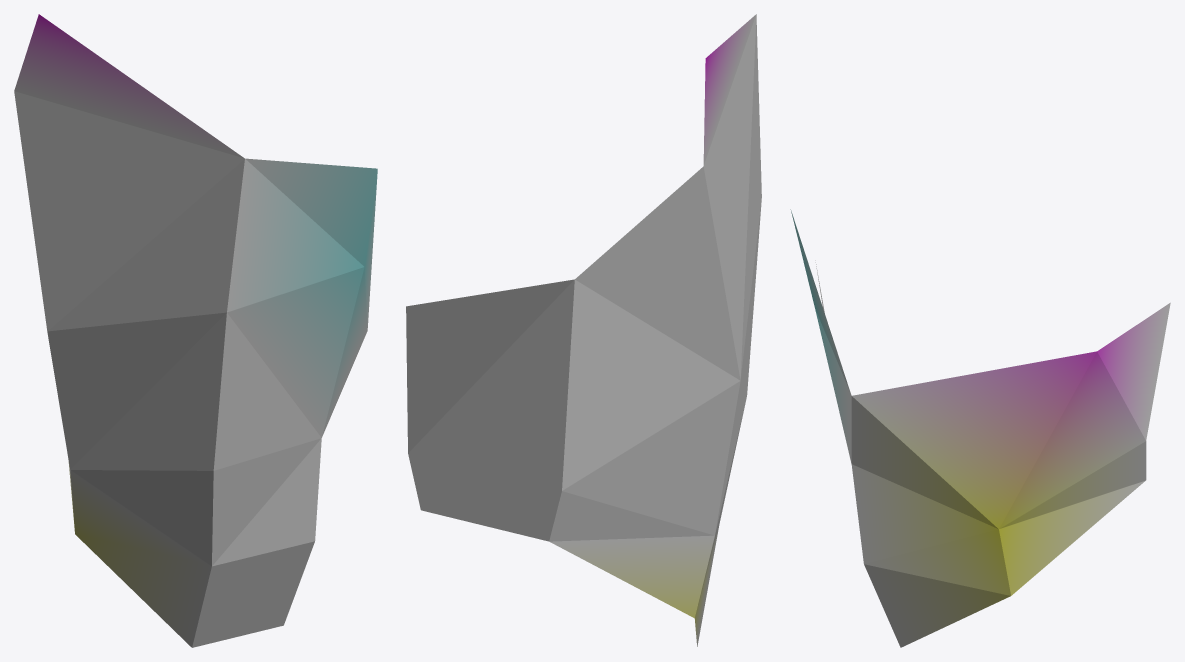
3 renders of one model, left to right at view 1: azimuth 30°, elevation 25°; view 2: azimuth 150°, elevation 25°; view 3: azimuth 270°, elevation 25°, orthographic. The views are drawn at different scales.
Parts seen in each view (by area): view 1: model_1156; view 2: model_1156; view 3: model_1156.
Part boxes in pixels (x1=…): model_1156: x1=14, y1=14, x2=377, y2=647; model_1156: x1=406, y1=14, x2=761, y2=646; model_1156: x1=790, y1=209, x2=1170, y2=647.
Size of the model in its own units: 21 by 50 by 31.
